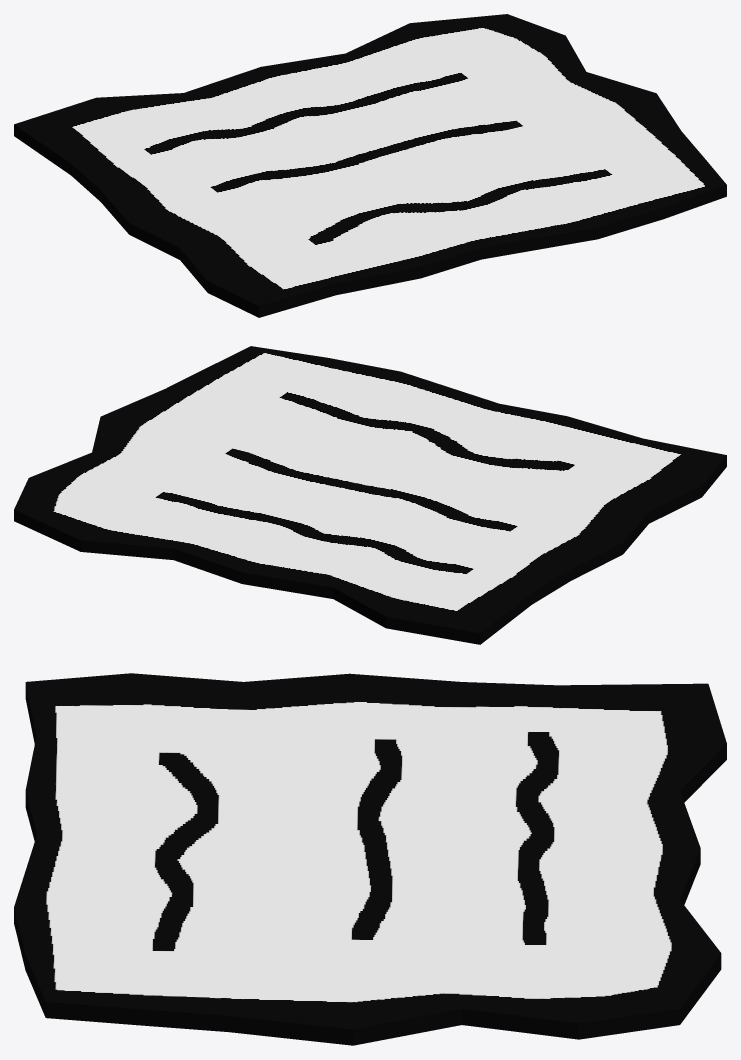
Rendered from Letter.fbx.
3 views of the same model, one above another, from view 1: azimuth 30°, elevation 25°; view 2: azimuth 150°, elevation 25°; view 3: azimuth 270°, elevation 25° (orthographic). The views are drawn at different scales.
Parts seen in each view (by area): view 1: Plane; view 2: Plane; view 3: Plane.
Part boxes in pixels (<box>): Plane: <box>14,14,726,317</box>; Plane: <box>14,346,726,644</box>; Plane: <box>14,673,726,1045</box>.
Size of the model in its own units: 971 by 20.62 by 821.
